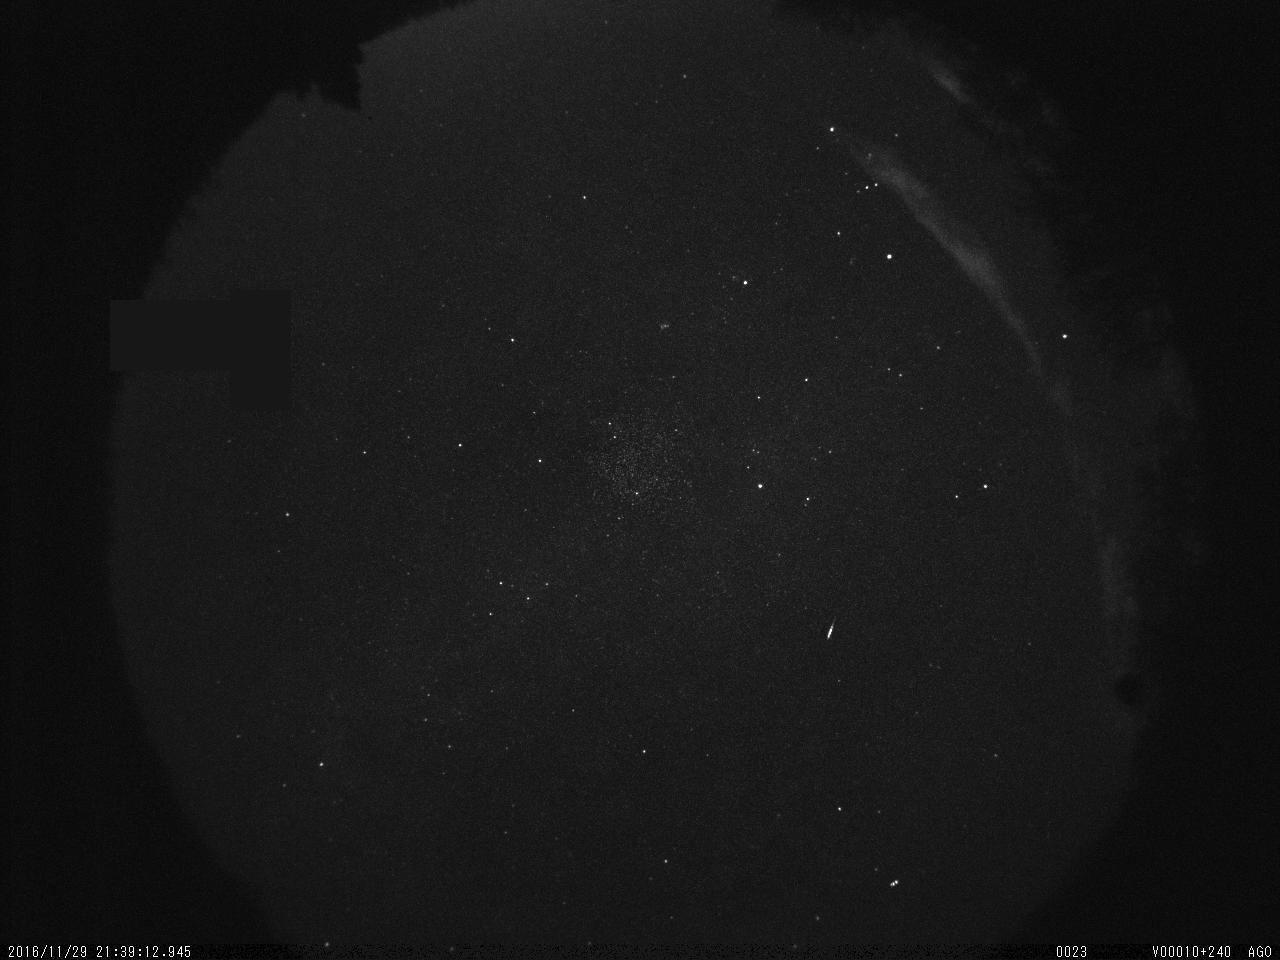meteor: (819, 608, 842, 650)
